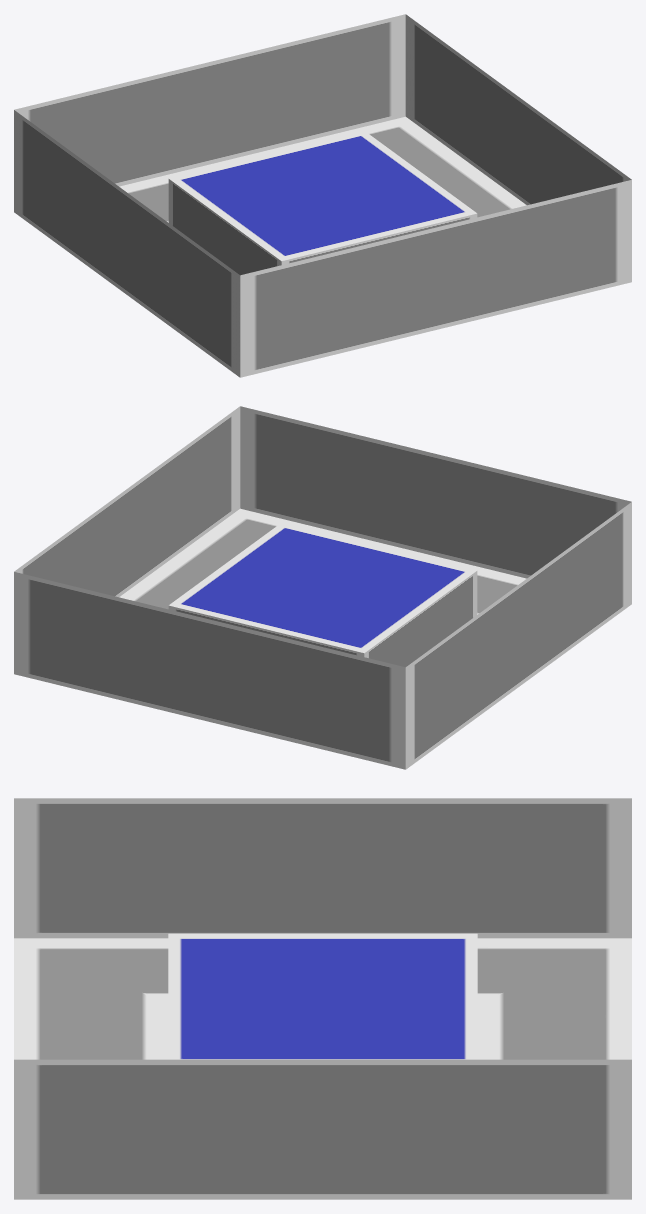
Rendered from puzzle_hole.dae.
The picture shows the model from 3 angles, top to bottom: view 1: azimuth 30°, elevation 25°; view 2: azimuth 150°, elevation 25°; view 3: azimuth 270°, elevation 25°; orthographic projection. The views are drawn at different scales.
Parts seen in each view (by area): view 1: puzzle_hole; view 2: puzzle_hole; view 3: puzzle_hole.
Boxes of the visible parts, <box> form: puzzle_hole: <box>14,14,631,377</box>; puzzle_hole: <box>14,406,631,769</box>; puzzle_hole: <box>14,798,631,1199</box>.
Bounding box in the file's own units: 0.4 × 0.4 × 0.1.
2 materials, 2 textured.
